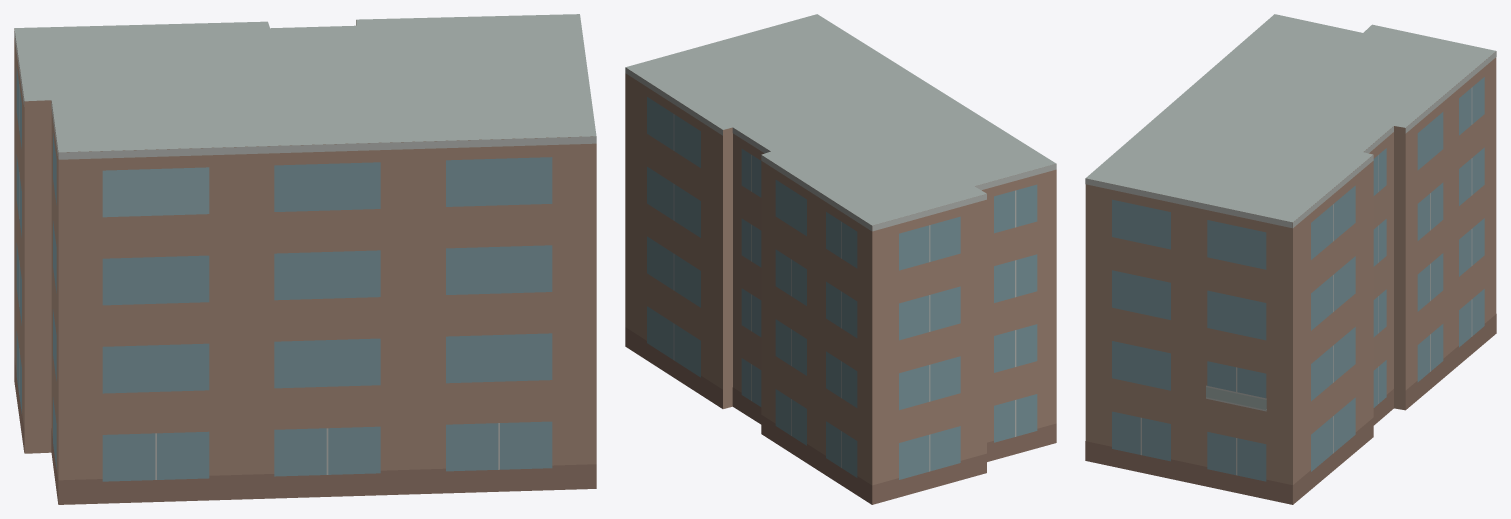
File: survey-upis-32893099.glb
The picture shows the model from 3 angles, left to right: view 1: azimuth 30°, elevation 25°; view 2: azimuth 150°, elevation 25°; view 3: azimuth 270°, elevation 25°; orthographic projection. The views are drawn at different scales.
Parts seen in each view (by area): view 1: survey-upis-32893099.tmp; view 2: survey-upis-32893099.tmp; view 3: survey-upis-32893099.tmp.
Boxes of the visible parts, left/top/right/bottom form: survey-upis-32893099.tmp: left=14, top=14, right=596, bottom=504; survey-upis-32893099.tmp: left=625, top=14, right=1056, bottom=504; survey-upis-32893099.tmp: left=1085, top=14, right=1496, bottom=504.
Size of the model in its own units: 18.36 by 11.6 by 15.31.
